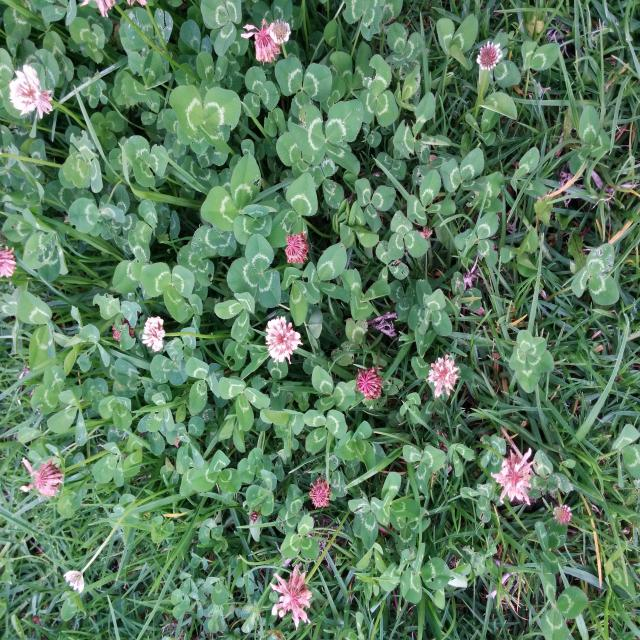Four Leaf Clover: (509, 329, 554, 392)
